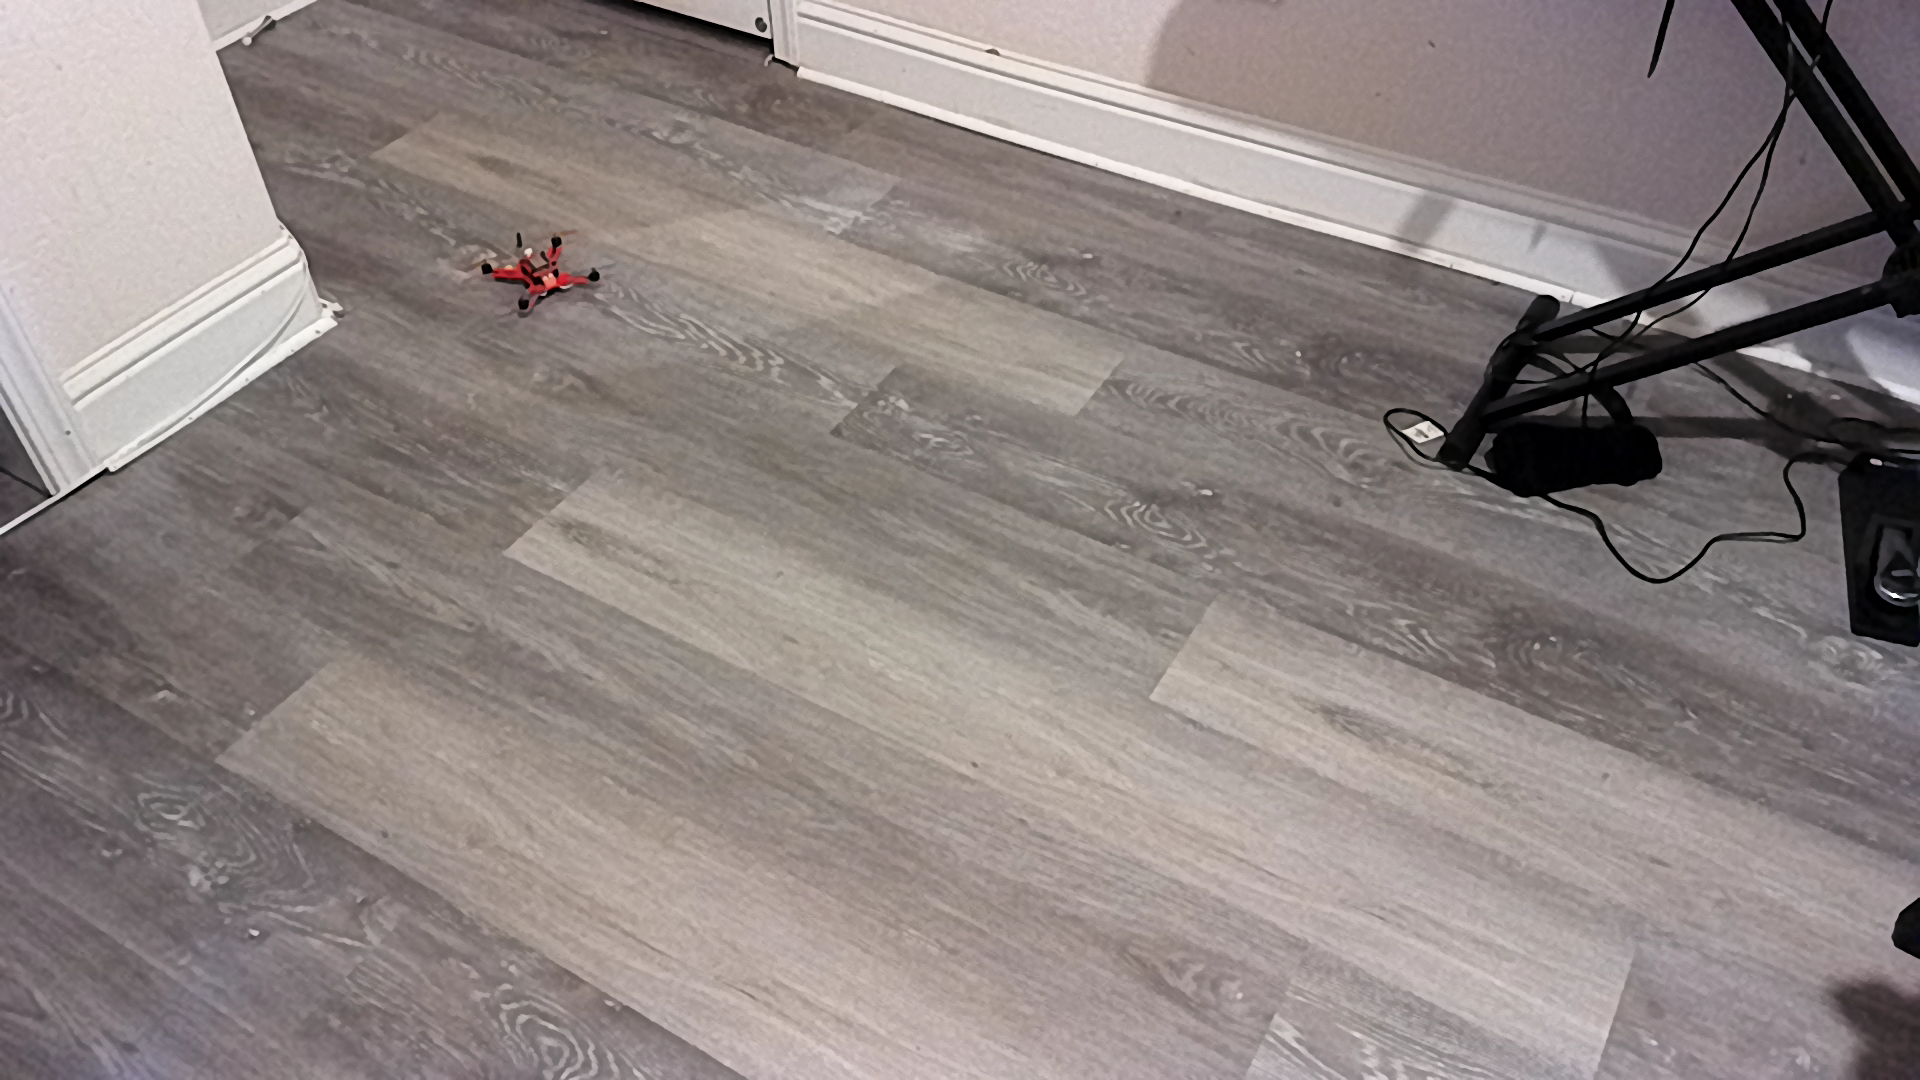drone: (460, 223, 626, 328)
